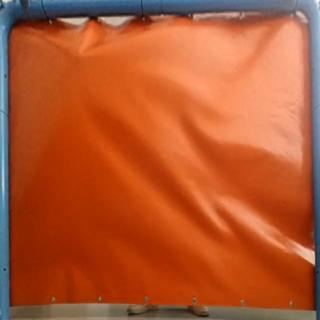Hit-hRxx: (73, 50, 88, 64)
